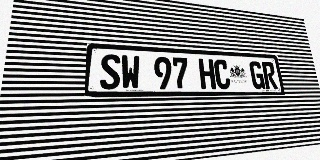7: (171, 57, 190, 89)
9: (154, 56, 173, 89)
C: (213, 59, 231, 89)
G: (249, 61, 265, 89)
H: (198, 58, 216, 89)
R: (261, 62, 278, 89)
S: (100, 54, 120, 89)
W: (121, 55, 140, 89)
